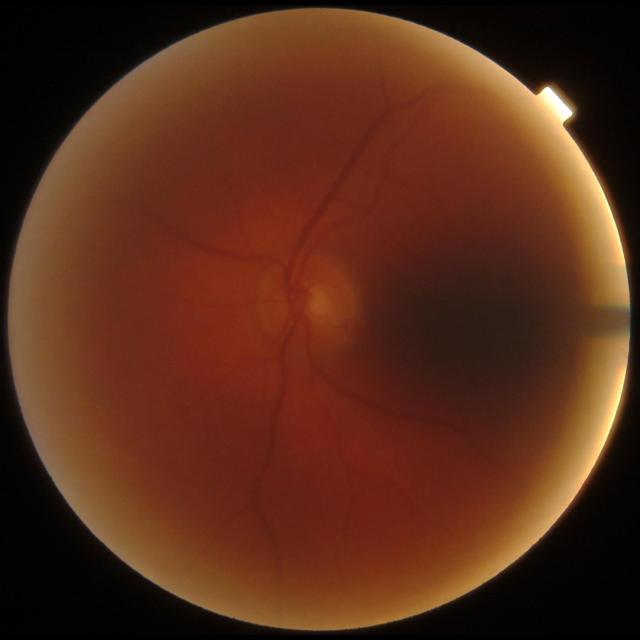OC: (284, 277, 336, 325)
OD: (255, 258, 359, 352)
